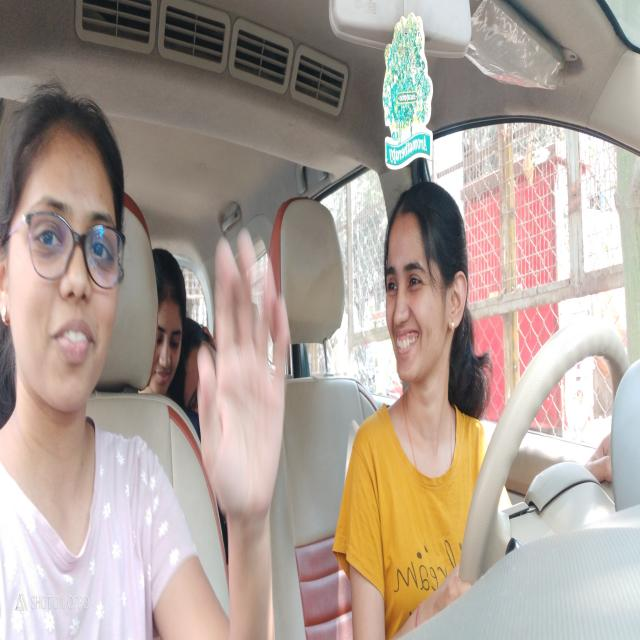LeftRight: (378, 193, 474, 388)
person: (11, 112, 128, 398), (158, 270, 185, 400), (187, 343, 203, 421)
talking: (391, 319, 422, 354)
